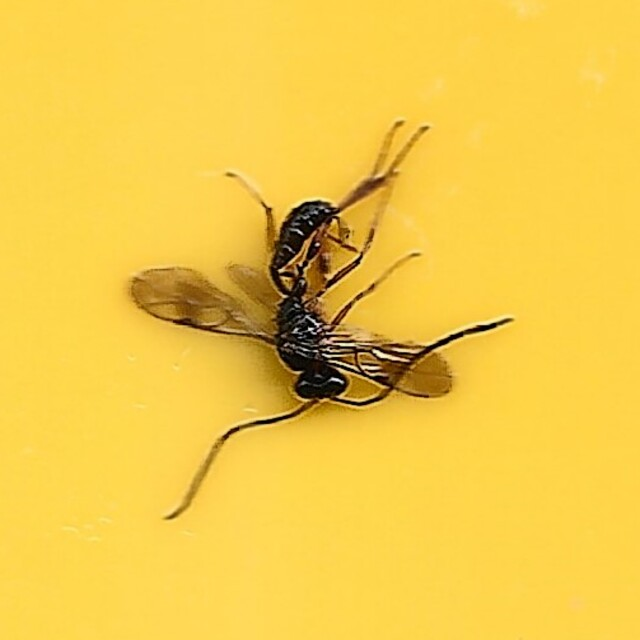Hymenoptera: (127, 117, 513, 523)
